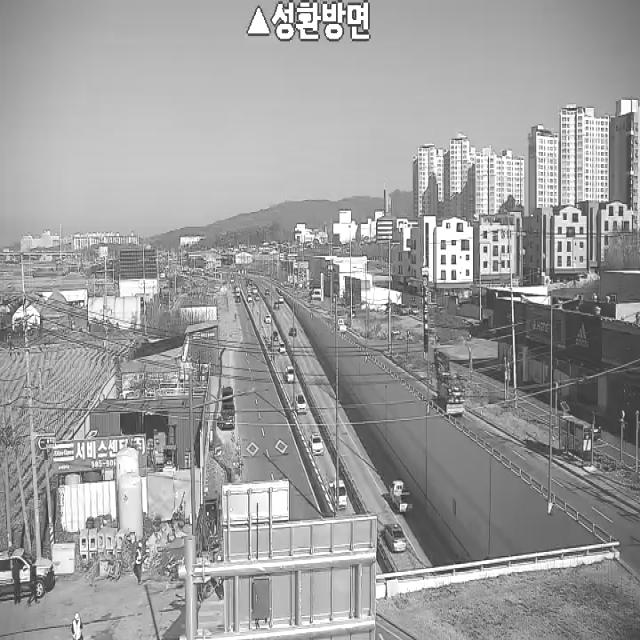Car: (0, 546, 55, 601), (572, 414, 602, 442), (384, 524, 406, 552), (310, 432, 323, 456), (296, 394, 306, 413), (278, 342, 286, 353), (289, 328, 297, 337), (264, 315, 272, 323), (273, 300, 279, 310), (278, 295, 284, 304), (248, 293, 252, 302), (264, 288, 270, 294)
Truck: (184, 479, 231, 605), (222, 385, 235, 429), (328, 478, 347, 508), (283, 366, 296, 382), (337, 320, 347, 332)
